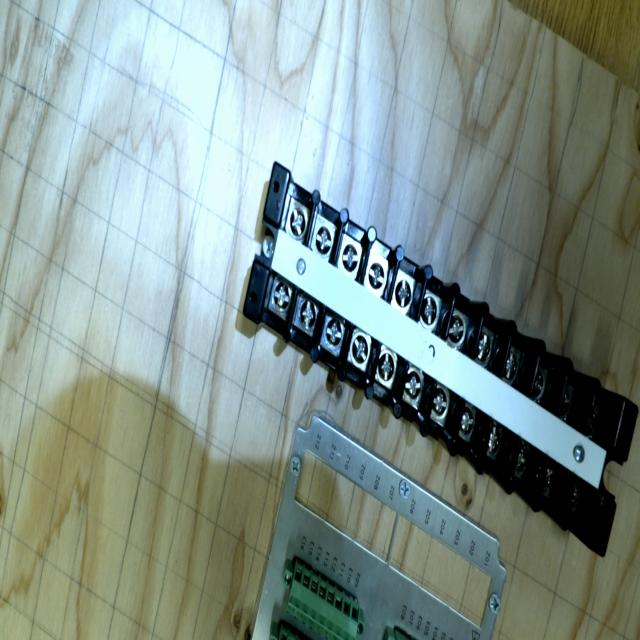Phillips_Block: (195, 163, 640, 557)
